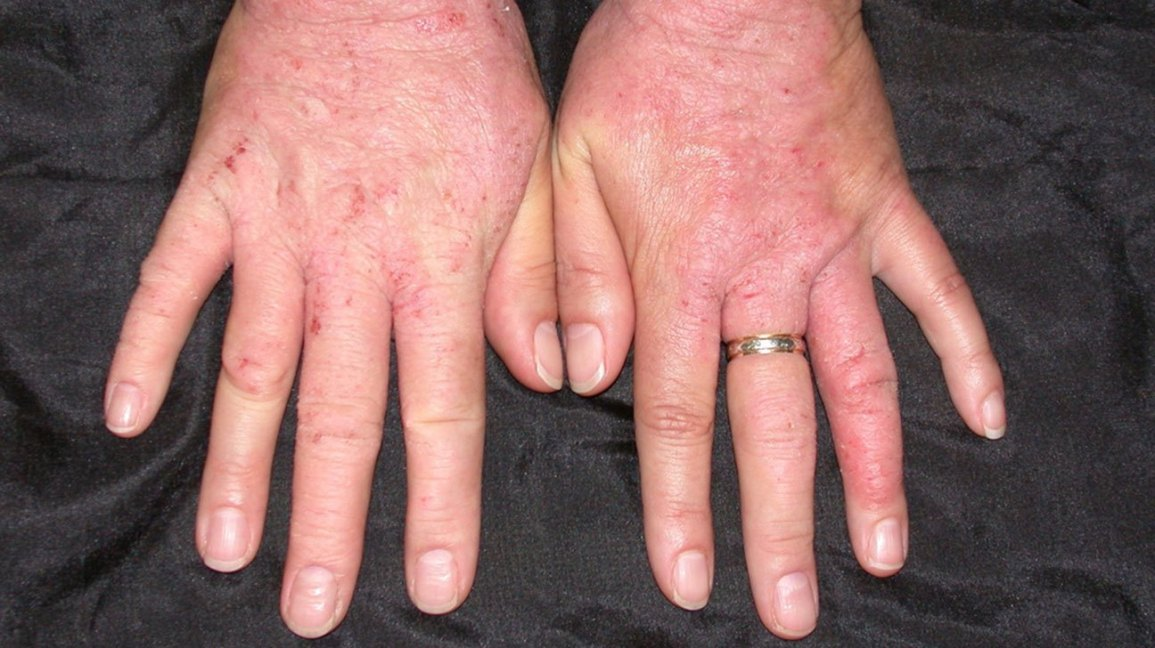Diseased: (254, 4, 880, 430)
